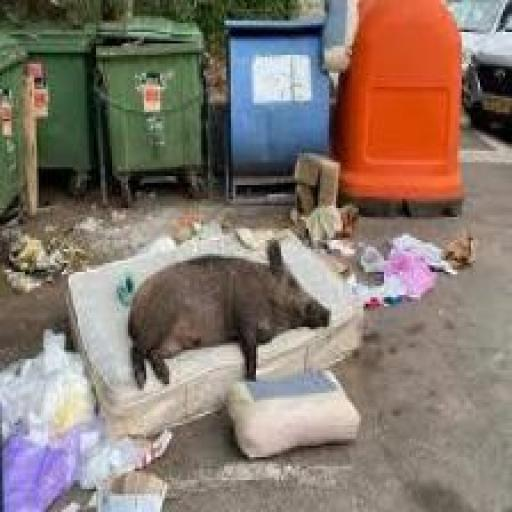Pig: (123, 231, 336, 407)
